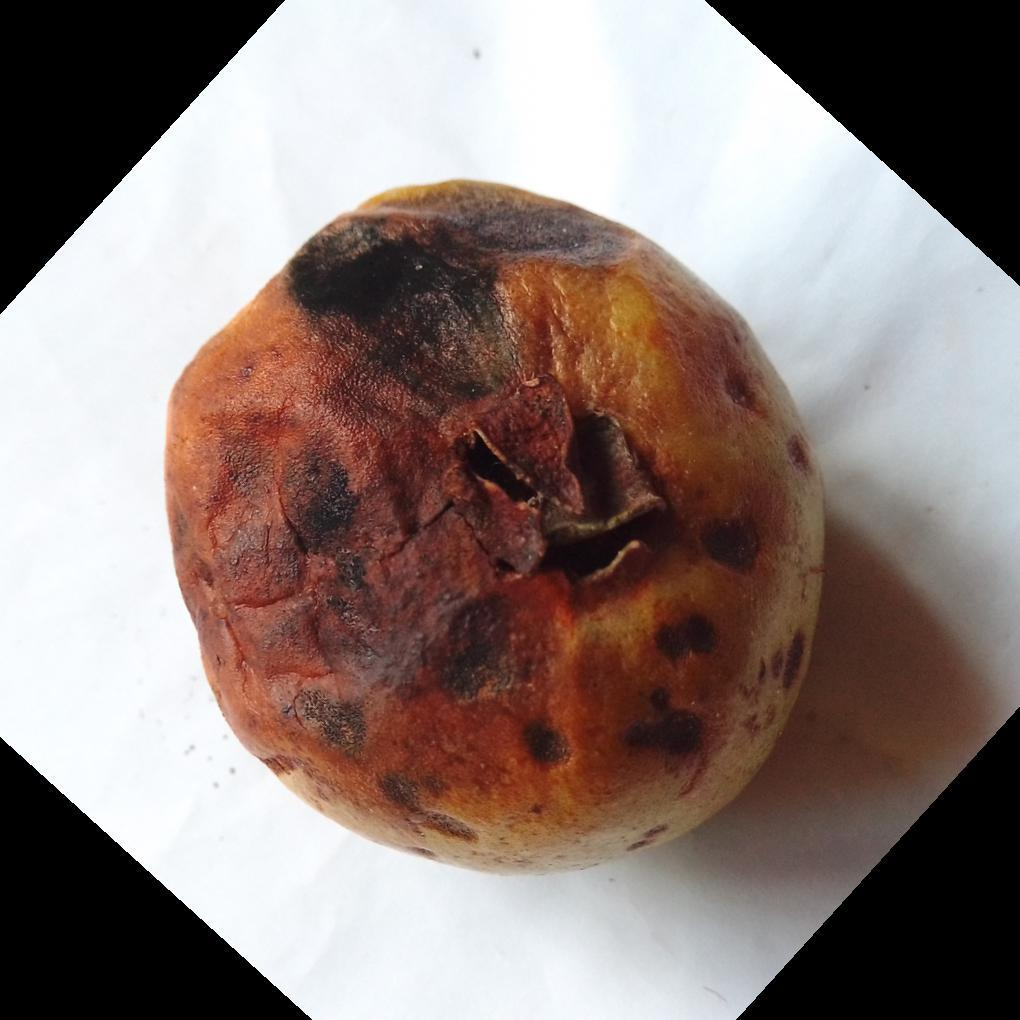FreshOrange: (160, 179, 830, 880)
